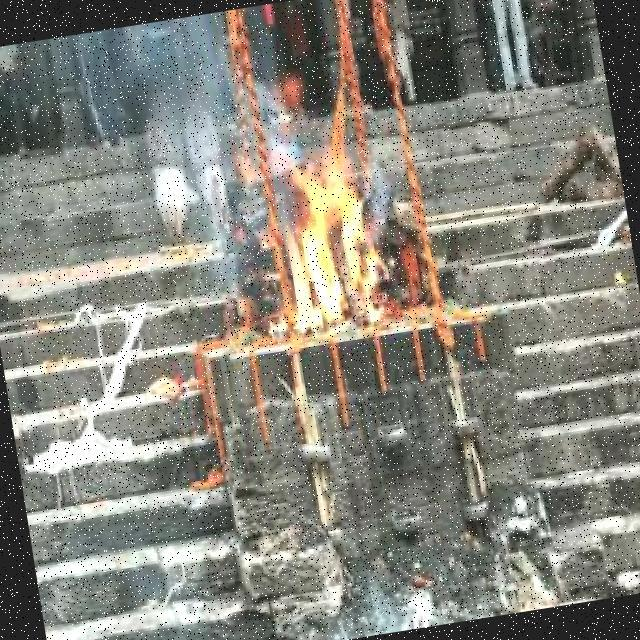Fire: (273, 158, 389, 336)
